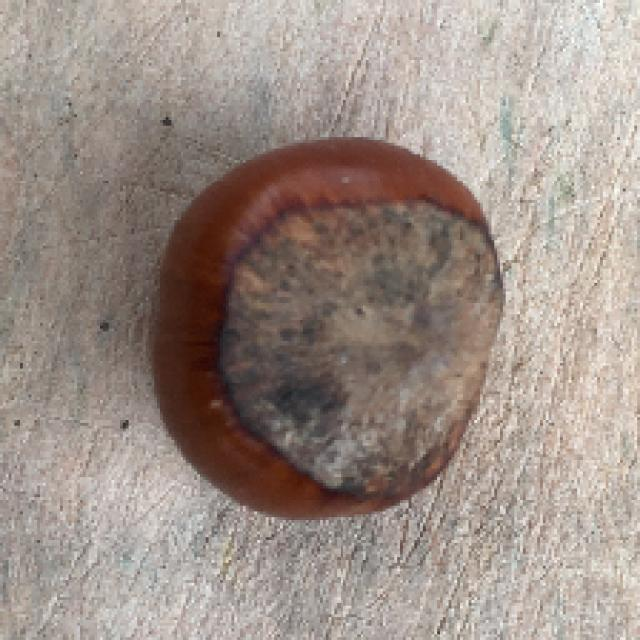qualityHazelnut: (144, 135, 505, 520)
